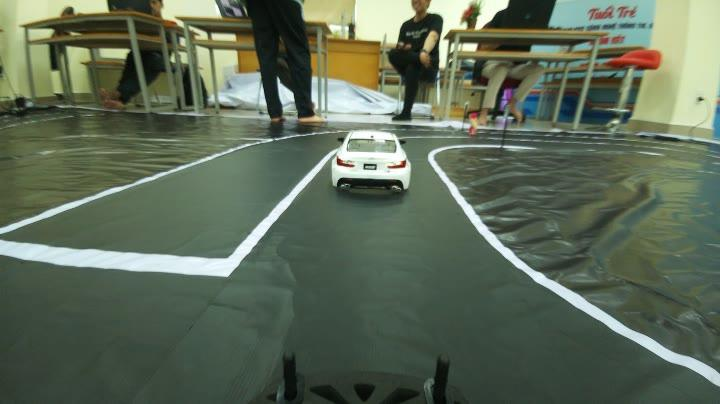car: (320, 113, 420, 199)
